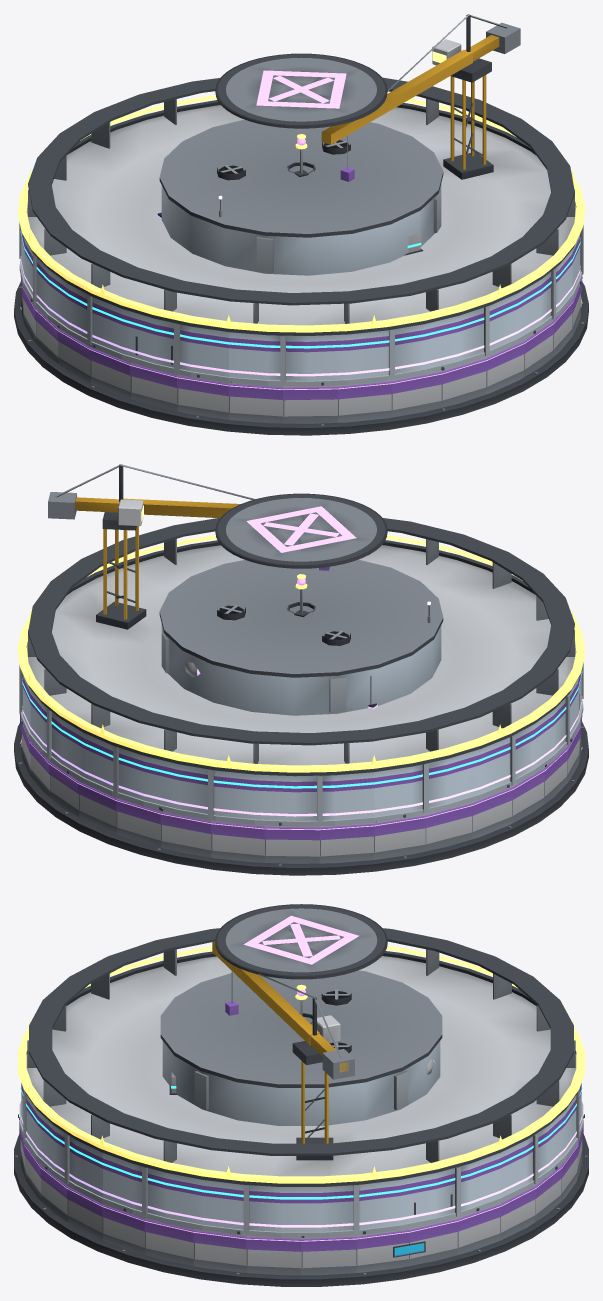
The model's file is cold_storage_l.glb.
The picture shows the model from 3 angles, top to bottom: view 1: azimuth 30°, elevation 25°; view 2: azimuth 150°, elevation 25°; view 3: azimuth 270°, elevation 25°; orthographic projection.
Parts seen in each view (by area): view 1: Roof, Base, L5, Upper_22, Upper_21, Upper_20, Upper_19, Upper_23, Wall_21, Wall_20, Wall_22, Upper_24 (+17 smaller); view 2: Roof, Base, L5, Upper_09, Upper_10, Upper_11, Upper_12, Upper_08, Wall_10, Wall_11, Wall_09, Upper_07 (+17 smaller); view 3: Roof, Base, L5, Upper_00, Upper_31, Upper_01, Upper_30, Upper_29, Wall_00, Wall_31, Upper_02, Wall_30 (+19 smaller).
Part boxes in pixels (x1,y1,x2,y2): Roof: (23,14,576,335); Base: (14,281,588,435); L5: (18,95,584,332); Upper_22: (338,330,392,379); Upper_21: (283,335,337,384); Upper_20: (229,332,282,384); Upper_19: (176,324,228,376); Upper_23: (391,320,441,378); Wall_21: (283,385,338,423); Wall_20: (228,381,283,423); Wall_22: (338,380,391,422); Upper_24: (441,307,487,364); Roof: (26,464,579,776); Base: (14,722,588,875); L5: (18,535,584,772); Upper_09: (210,770,264,819); Upper_10: (265,775,319,824); Upper_11: (320,772,373,824); Upper_12: (374,764,426,816); Upper_08: (161,760,211,818); Wall_10: (264,825,319,863); Wall_11: (319,822,374,863); Wall_09: (211,820,264,862); Upper_07: (115,747,161,804); Roof: (25,904,577,1186); Base: (14,1133,588,1286); L5: (18,946,584,1183); Upper_00: (301,1185,356,1234); Upper_31: (246,1185,301,1234); Upper_01: (356,1178,408,1233); Upper_30: (194,1178,246,1233); Upper_29: (144,1167,194,1222); Wall_00: (301,1235,356,1275); Wall_31: (246,1235,301,1275); Upper_02: (408,1167,458,1222); Wall_30: (193,1229,246,1272).
Size of the model in its own units: 17.16 by 8.33 by 17.16.
